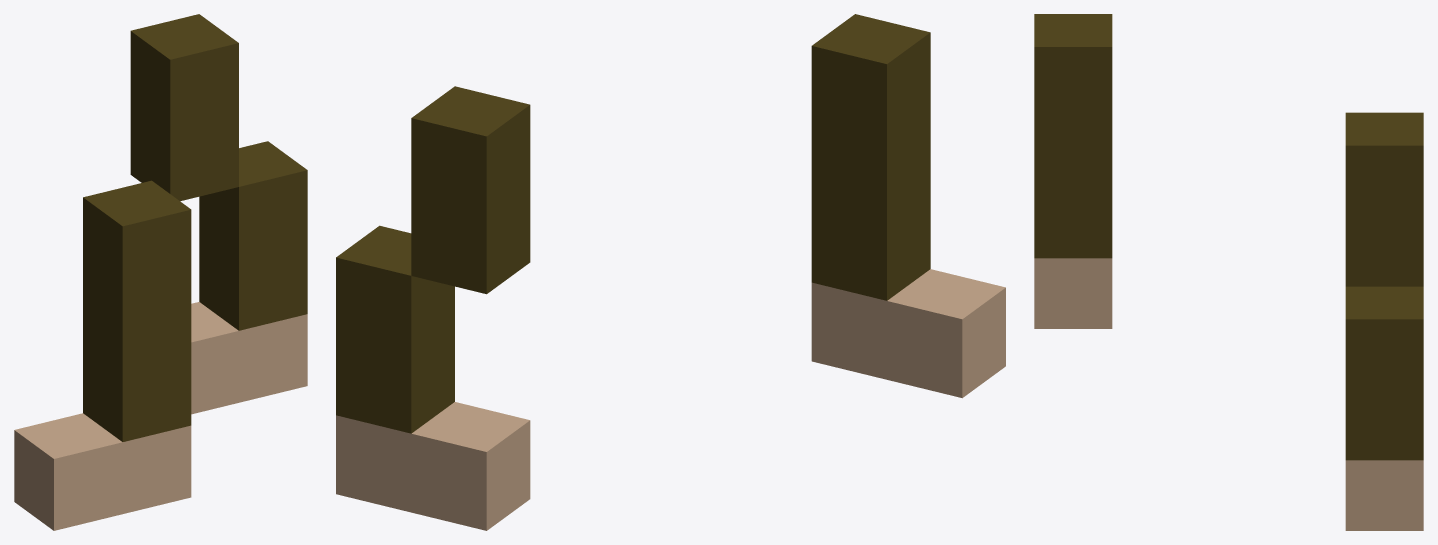
Rendered from orc-7-torso_walk.obj.
The picture shows the model from 3 angles, left to right: view 1: azimuth 30°, elevation 25°; view 2: azimuth 150°, elevation 25°; view 3: azimuth 270°, elevation 25°; orthographic projection. The views are drawn at different scales.
Parts seen in each view (by area): view 1: torso_walk; view 2: torso_walk; view 3: torso_walk.
Part boxes in pixels (x1,y1,x2,y2): torso_walk: (14,14,307,530); torso_walk: (336,14,1005,530); torso_walk: (1034,14,1423,530).
Bounding box in the file's own units: 0.6 × 0.5 × 0.5.
1 material, 1 textured.
